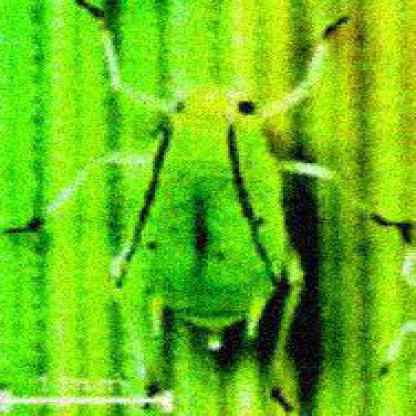schizaphis graminum: (47, 18, 343, 384)
